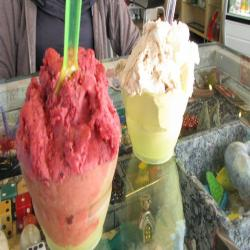icecream: (16, 46, 125, 243), (119, 19, 199, 166)
